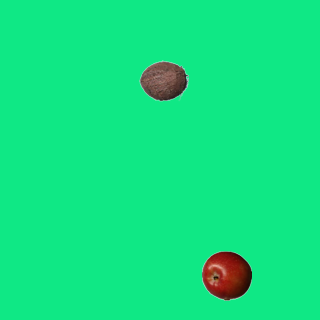Apple Braeburn: (201, 250, 251, 300)
Cocos: (138, 55, 188, 105)
